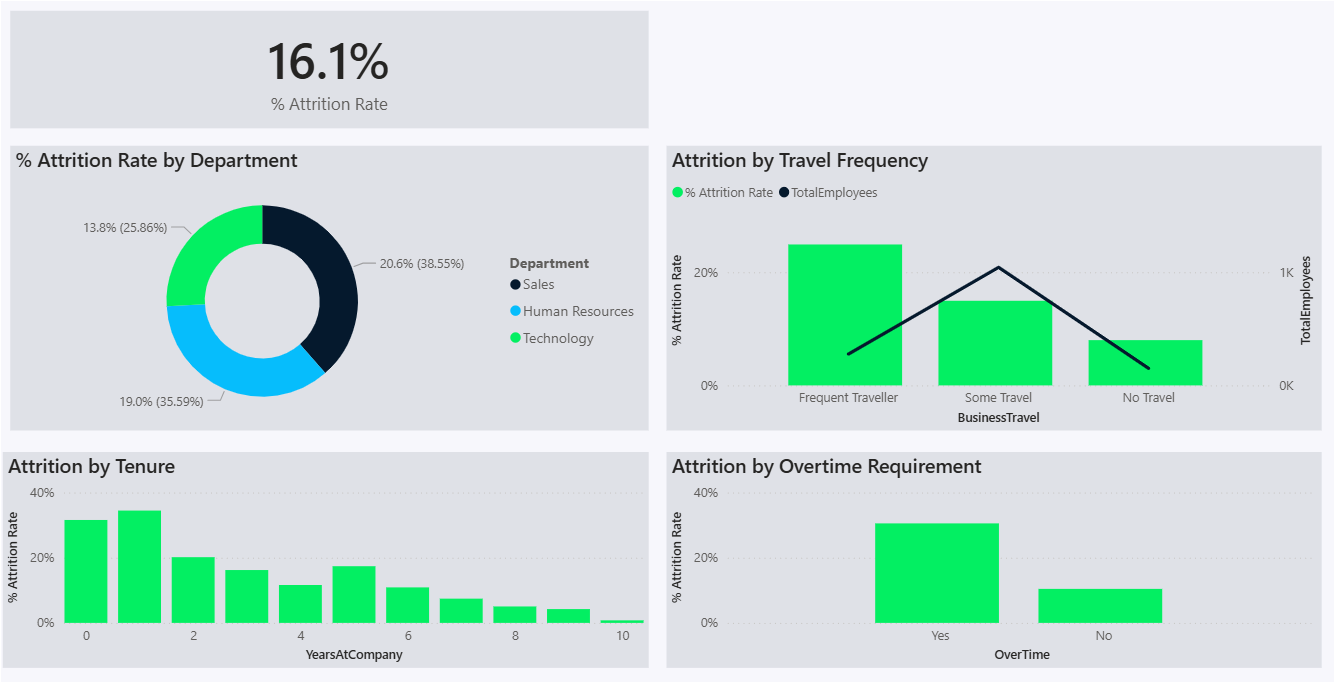

Layout of this report page (visuals, bound fields, positions):
{"tool":"powerbi","page":{"name":"Attrition","canvas":[1280,720],"ordinal":2},"visuals":[{"type":"card","fields":{"Values":["_Measures.% Attrition Rate"]},"box":[16,80,608,112],"z":0},{"type":"donutChart","fields":{"Category":["DimEmployee.Department"],"Y":["_Measures.% Attrition Rate"]},"box":[15.5,208.3,608.3,271.4],"z":1000},{"type":"lineStackedColumnComboChart","title":"Attrition by Travel Frequency","fields":{"Y":["_Measures.% Attrition Rate"],"Category":["DimEmployee.BusinessTravel"],"Y2":["_Measures.TotalEmployees"]},"box":[640.5,208.3,623.8,271.4],"z":3000},{"type":"columnChart","title":"Attrition by Overtime Requirement","fields":{"Category":["DimEmployee.OverTime"],"Y":["_Measures.% Attrition Rate"]},"box":[640.5,500,623.8,206],"z":4000},{"type":"columnChart","title":"Attrition by Tenure","fields":{"Category":["DimEmployee.YearsAtCompany"],"Y":["_Measures.% Attrition Rate"]},"box":[8.3,500,615.5,206],"z":5000},{"type":"shape","box":[0,0,1280,64],"z":6000},{"type":"textbox","box":[32,0,624,64],"z":7000},{"type":"pageNavigator","box":[640,0,640,64],"z":8000}]}

Visuals, with their boxes on the page's 1280x720 design canvas (x1, y1, x2, y2). These are canvas units, not pixel positions in the 1334x682 screenshot, which may show the page scaled, cropped or inside an application window:
card - _Measures.% Attrition Rate: 16:80:624:192
donutChart - DimEmployee.Department x _Measures.% Attrition Rate: 16:208:624:480
"Attrition by Travel Frequency" lineStackedColumnComboChart: 640:208:1264:480
"Attrition by Overtime Requirement" columnChart: 640:500:1264:706
"Attrition by Tenure" columnChart: 8:500:624:706
shape: 0:0:1280:64
textbox: 32:0:656:64
pageNavigator: 640:0:1280:64
